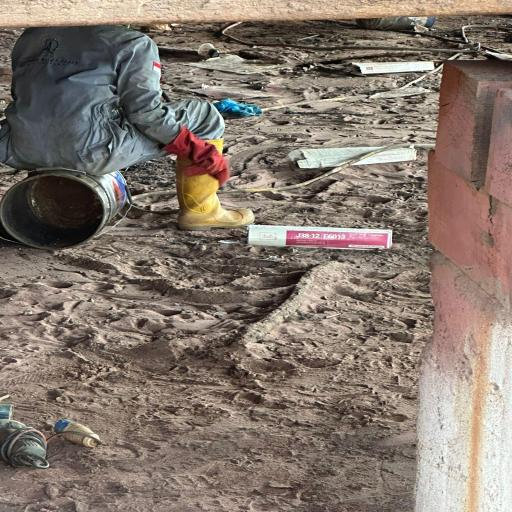safety_shoe: (175, 166, 259, 234)
